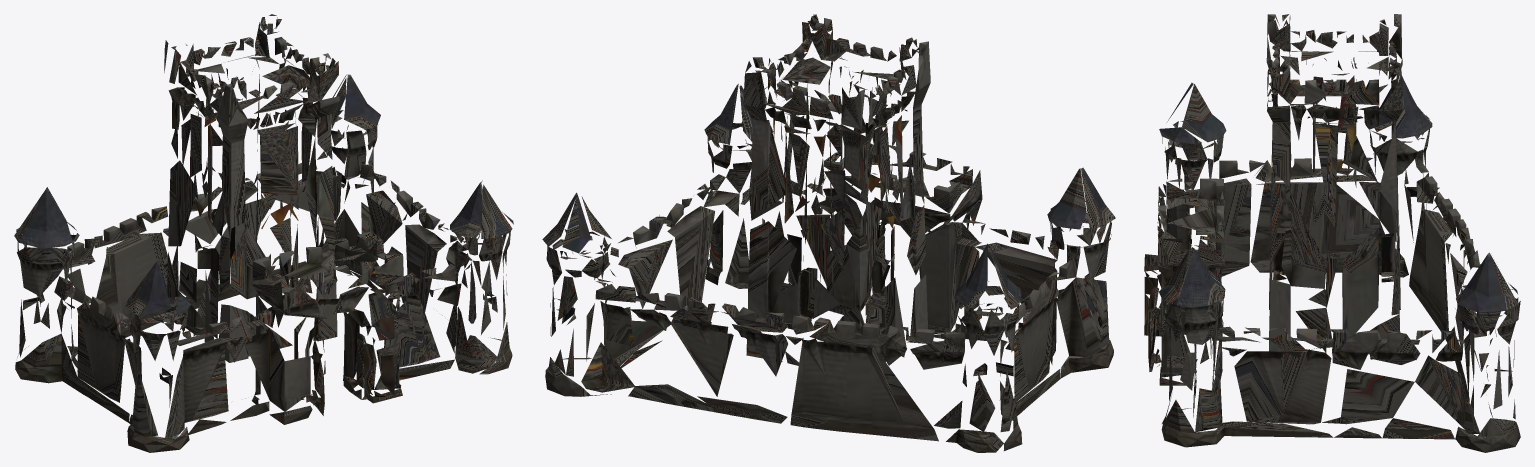
The model's file is bld_castle_a_LOD2.glb.
3 renders of one model, left to right at view 1: azimuth 30°, elevation 25°; view 2: azimuth 150°, elevation 25°; view 3: azimuth 270°, elevation 25°, orthographic. The views are drawn at different scales.
Parts seen in each view (by area): view 1: geometry_0; view 2: geometry_0; view 3: geometry_0.
Boxes of the visible parts, bbox=[...] form: geometry_0: bbox=[14, 14, 513, 452]; geometry_0: bbox=[542, 14, 1115, 452]; geometry_0: bbox=[1144, 14, 1520, 452].
Size of the model in its own units: 28.07 by 20.09 by 21.91.
1 material, 1 textured.
